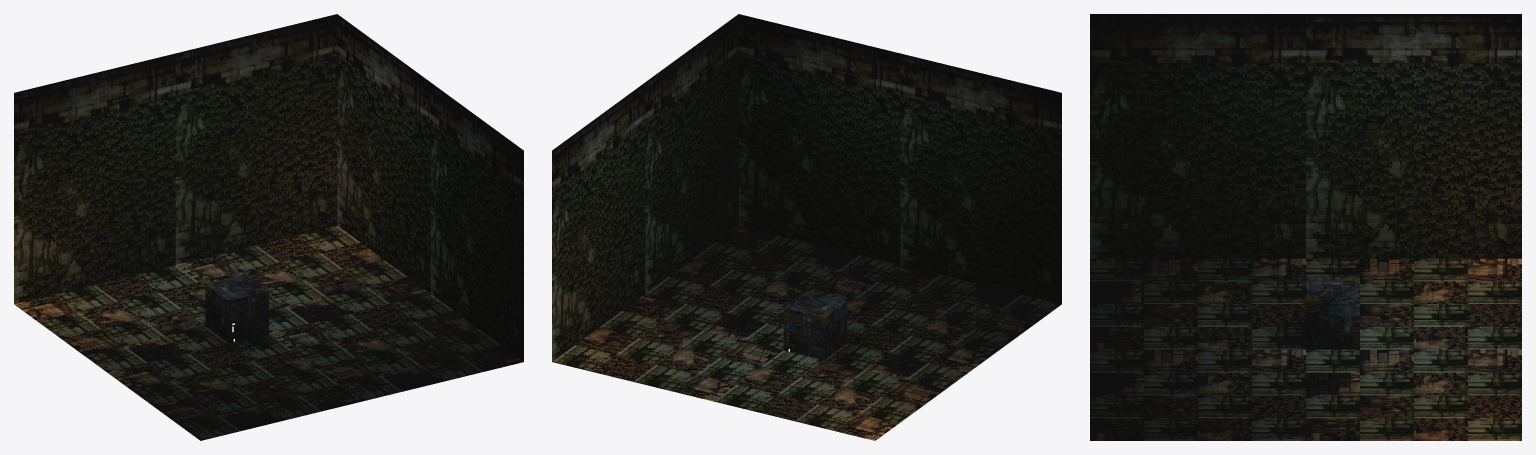
Rendered from MAP161.gltf.
The picture shows the model from 3 angles, left to right: view 1: azimuth 30°, elevation 25°; view 2: azimuth 150°, elevation 25°; view 3: azimuth 270°, elevation 25°; orthographic projection. The views are drawn at different scales.
Bounding box in the file's own units: 102 × 64 × 102.
Materials: 5 (5 with a texture image).
